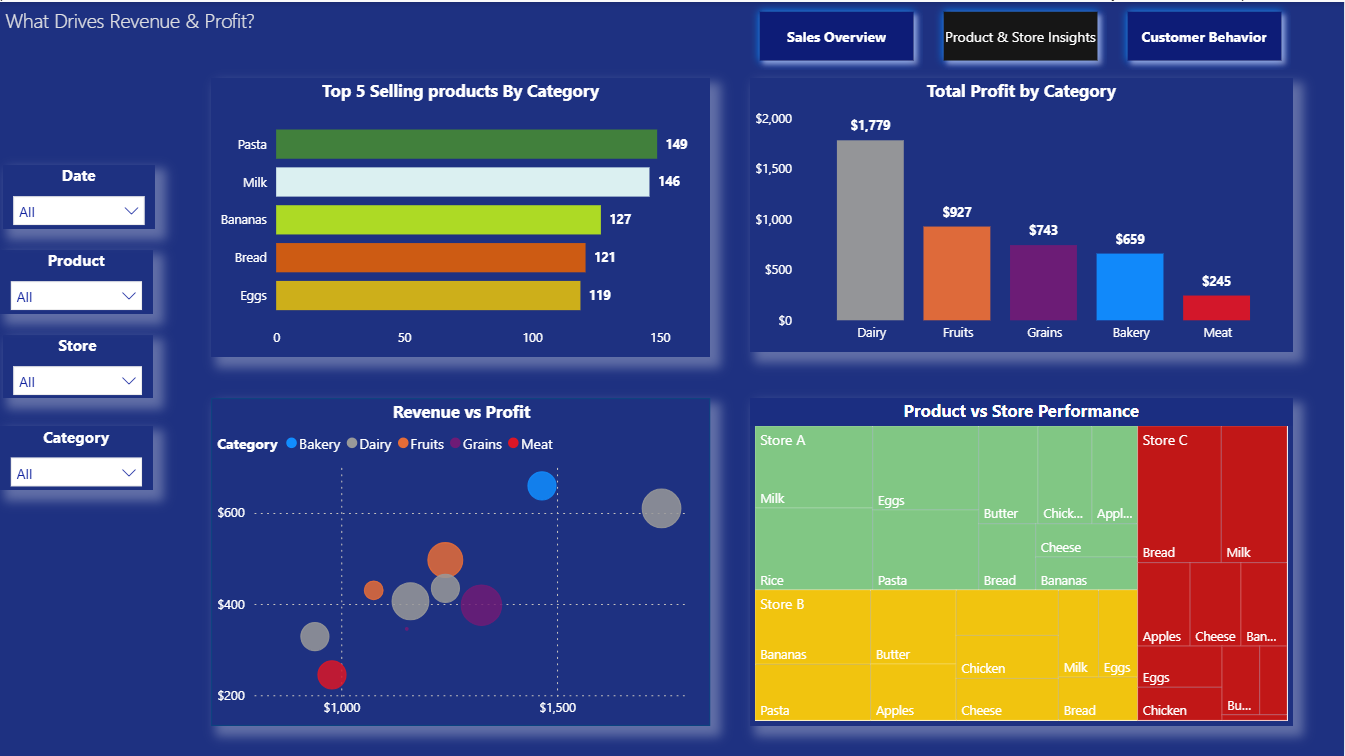

The page's visual inventory and layout, read from the dashboard file:
{"tool":"powerbi","page":{"name":"Product & Store Insights","canvas":[1280,720],"ordinal":1},"visuals":[{"type":"clusteredBarChart","title":"Top 5 Selling products By Category","fields":{"Category":["Sheet1.Product"],"Y":["Sum(Sheet1.Quantity)"]},"box":[201.2,72.6,475,265.5],"z":0},{"type":"treemap","title":"Product vs Store Performance","fields":{"Group":["Sheet1.Store","Sheet1.Product"],"Values":["Divide(Sum(Sheet1.Total Sale), ScopedEval(Sum(Sheet1.Total Sale), []))"],"Details":["Sheet1.Product"]},"box":[714.3,377.4,516.7,311.9],"z":1000},{"type":"scatterChart","title":"Revenue vs Profit","fields":{"X":["Sales.Total Revenue"],"Y":["Sales.Total Profit"],"Size":["Sales.Total Orders"],"Category":["Sales.Product"],"Series":["Sales.Category"]},"box":[201.2,377.4,475,311.9],"z":2000},{"type":"clusteredColumnChart","fields":{"Y":["Sales.Total Profit"],"Category":["Sales.Category"]},"box":[714.3,72.6,516.7,260.7],"z":3000},{"type":"slicer","title":"Store","fields":{"Values":["Sales.Store"]},"box":[2.4,316.7,142.9,60.7],"z":4000},{"type":"slicer","title":"Product","fields":{"Values":["Sales.Product"]},"box":[0,235.7,145.2,61.9],"z":5000},{"type":"slicer","title":"Date","fields":{"Values":["Sales.Date"]},"box":[2.4,154.8,145.2,61.9],"z":6000},{"type":"slicer","title":"Category","fields":{"Values":["Sales.Category"]},"box":[0,403.6,145.2,61.9],"z":7000},{"type":"pageNavigator","box":[714.3,0,516.7,65.5],"z":8000},{"type":"textbox","box":[0,0,307.1,53.6],"z":9000}]}

Visuals, with their boxes in screenshot pixels (x1, y1, x2, y2), scaled from the page's 1280x720 canvas onto the 1345x756 screenshot:
"Top 5 Selling products By Category" clusteredBarChart: Rect(211, 76, 711, 355)
"Product vs Store Performance" treemap: Rect(751, 396, 1294, 724)
"Revenue vs Profit" scatterChart: Rect(211, 396, 711, 724)
clusteredColumnChart - Sales.Total Profit x Sales.Category: Rect(751, 76, 1294, 350)
"Store" slicer: Rect(3, 333, 153, 396)
"Product" slicer: Rect(0, 247, 153, 312)
"Date" slicer: Rect(3, 163, 155, 228)
"Category" slicer: Rect(0, 424, 153, 489)
pageNavigator: Rect(751, 0, 1294, 69)
textbox: Rect(0, 0, 323, 56)
